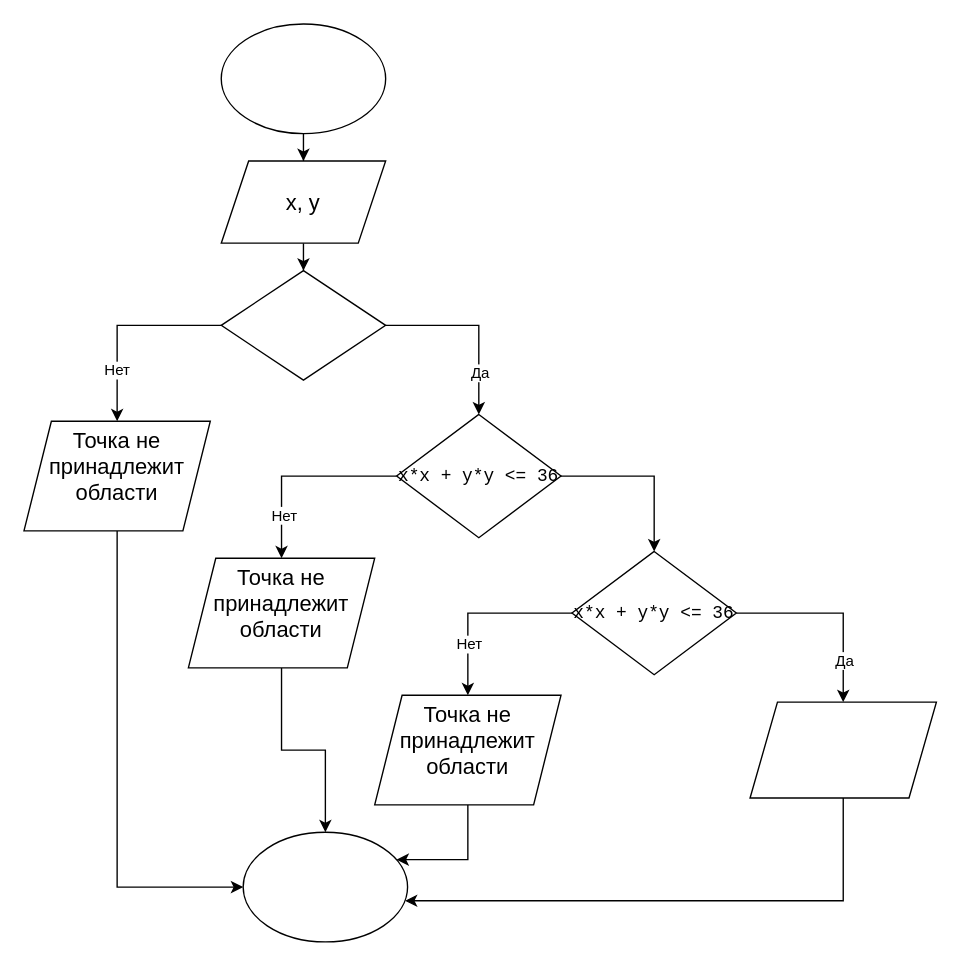
The diagram is 960 pixels wide and 966 high, and some of its shapes have lost their labels. Here are the shapes that lost their labels. From the top down, the centre of each, then its label:
At point 303,78: "Начало".
At point 303,324: "y >= 0".
At point 842,749: "Точка принадлежит области".
